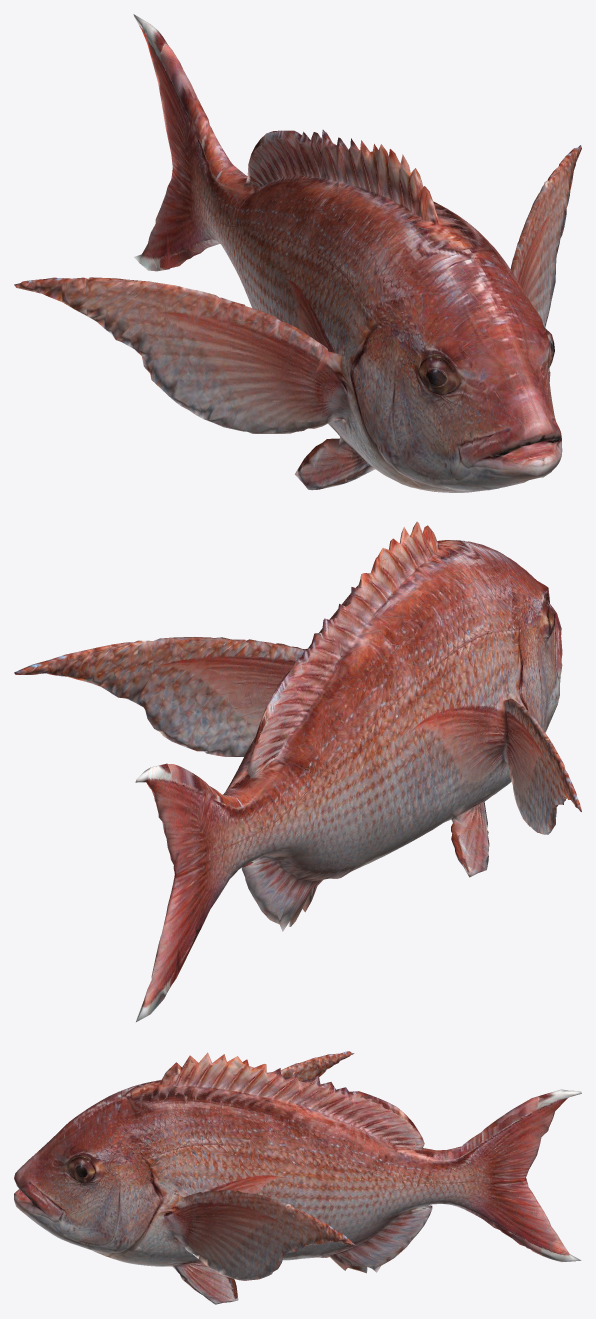
Rendered from fish_redbream.glb.
The picture shows the model from 3 angles, top to bottom: view 1: azimuth 30°, elevation 25°; view 2: azimuth 150°, elevation 25°; view 3: azimuth 270°, elevation 25°; orthographic projection. The views are drawn at different scales.
Visible parts, largest first — view 1: geometry_0; view 2: geometry_0; view 3: geometry_0.
Part boxes in pixels (x1,y1,x2,y2): geometry_0: (14,14,581,492); geometry_0: (14,521,581,1021); geometry_0: (14,1051,581,1304).
Size of the model in its own units: 1.57 by 0.8468 by 1.96.
1 material, 1 textured.
